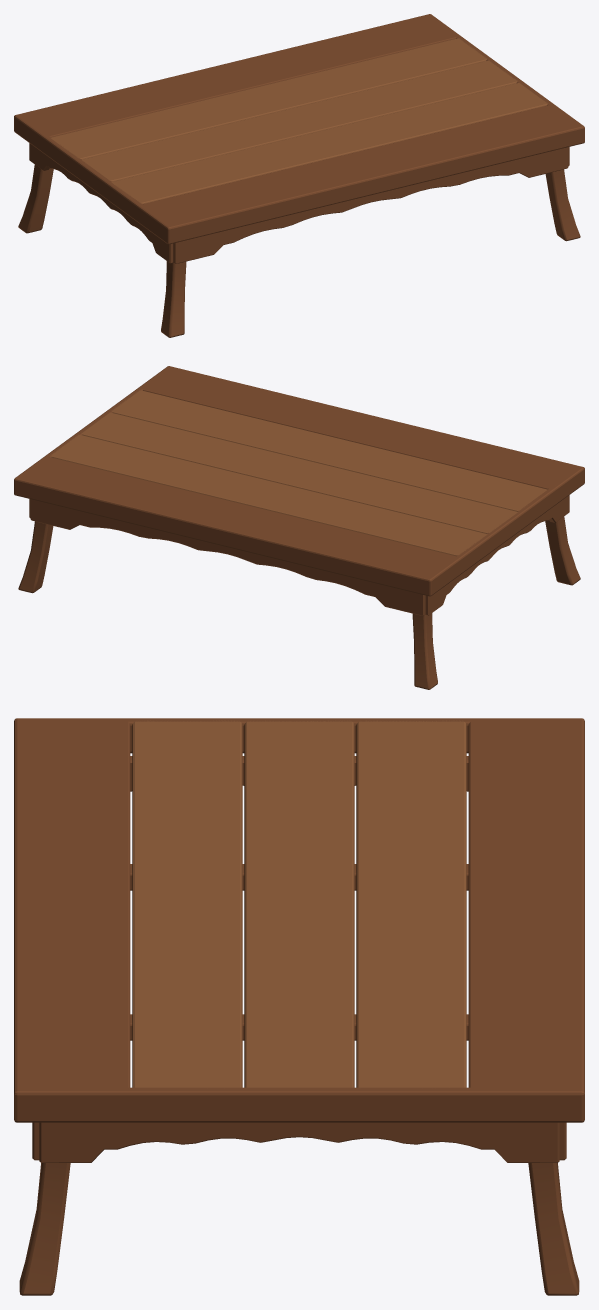
Rendered from SapGo.glb.
3 renders of one model, top to bottom at view 1: azimuth 30°, elevation 25°; view 2: azimuth 150°, elevation 25°; view 3: azimuth 270°, elevation 25°, orthographic. The views are drawn at different scales.
Visible parts, largest first — view 1: geometry_0; view 2: geometry_0; view 3: geometry_0.
Part boxes in pixels (x1,y1,x2,y2): geometry_0: (14, 14, 584, 337); geometry_0: (14, 366, 584, 689); geometry_0: (14, 718, 584, 1295).
Size of the model in its own units: 1.4 by 0.36 by 0.9.
